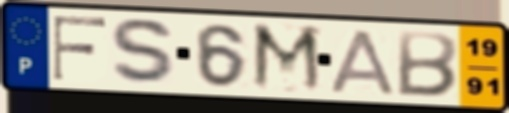6: (193, 22, 251, 90)
A: (327, 27, 399, 98)
B: (393, 28, 461, 100)
F: (50, 14, 110, 83)
M: (249, 21, 327, 96)
S: (108, 16, 181, 88)
